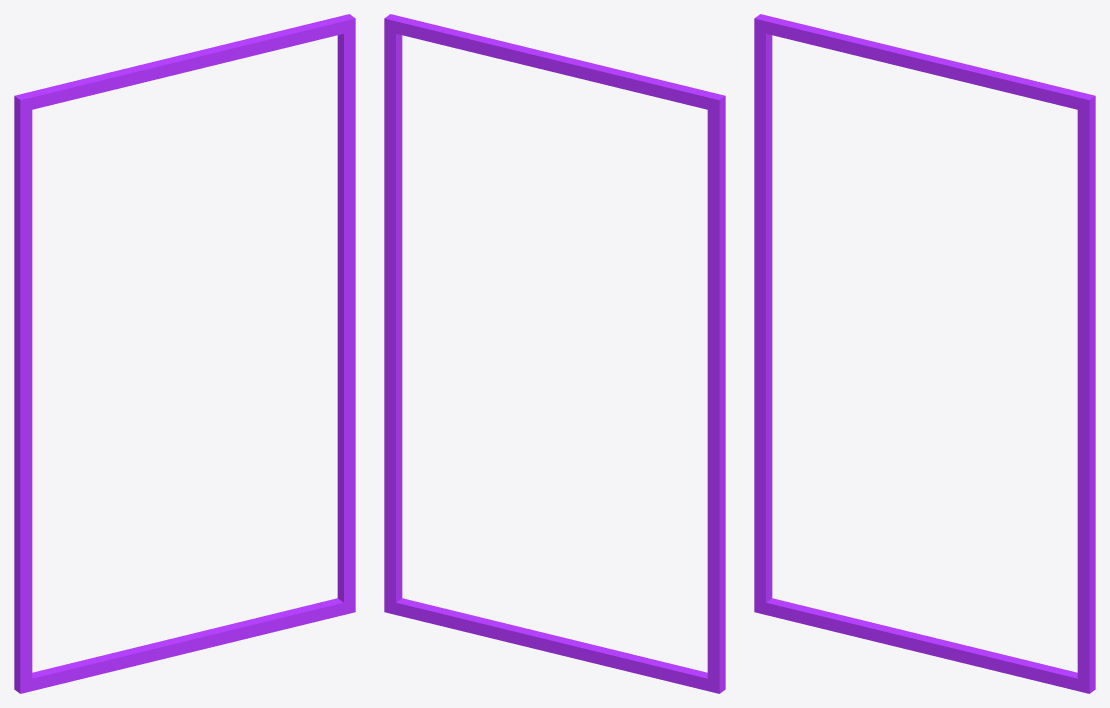
File: twitch-adv-frame.glb
The picture shows the model from 3 angles, left to right: view 1: azimuth 30°, elevation 25°; view 2: azimuth 150°, elevation 25°; view 3: azimuth 330°, elevation 25°; orthographic projection.
Visible parts, largest first — view 1: Marco_Publicidad; view 2: Marco_Publicidad; view 3: Marco_Publicidad.
Part boxes in pixels (left/top/right/bottom): Marco_Publicidad: left=14, top=14, right=355, bottom=693; Marco_Publicidad: left=384, top=14, right=725, bottom=693; Marco_Publicidad: left=754, top=14, right=1095, bottom=693.
Bounding box in the file's own units: 2.83 × 4.79 × 0.09.
